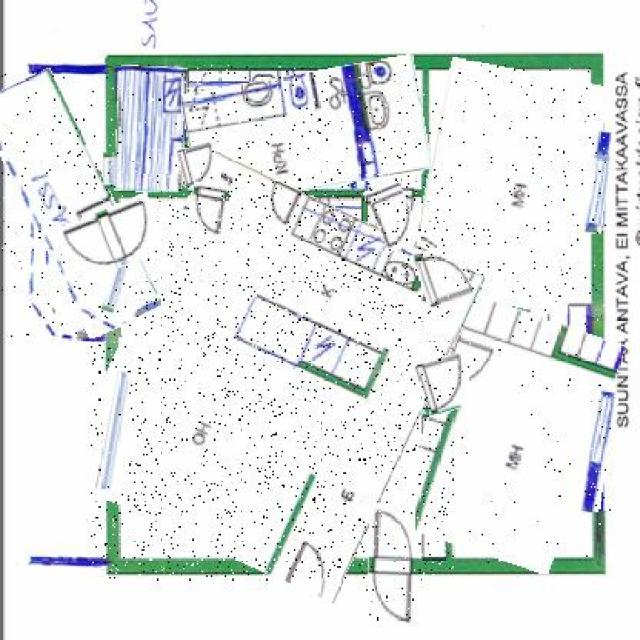door: (62, 202, 166, 276), (368, 503, 417, 628), (371, 183, 417, 251), (417, 244, 469, 304), (420, 355, 472, 414), (189, 185, 229, 237), (180, 144, 220, 184)
window: (584, 391, 614, 512), (103, 371, 128, 491), (584, 132, 610, 234), (105, 264, 126, 314), (105, 153, 117, 190)
zone: (92, 174, 456, 580), (412, 304, 608, 564), (418, 65, 600, 309), (1, 71, 136, 337), (185, 64, 426, 198), (116, 65, 186, 192)
